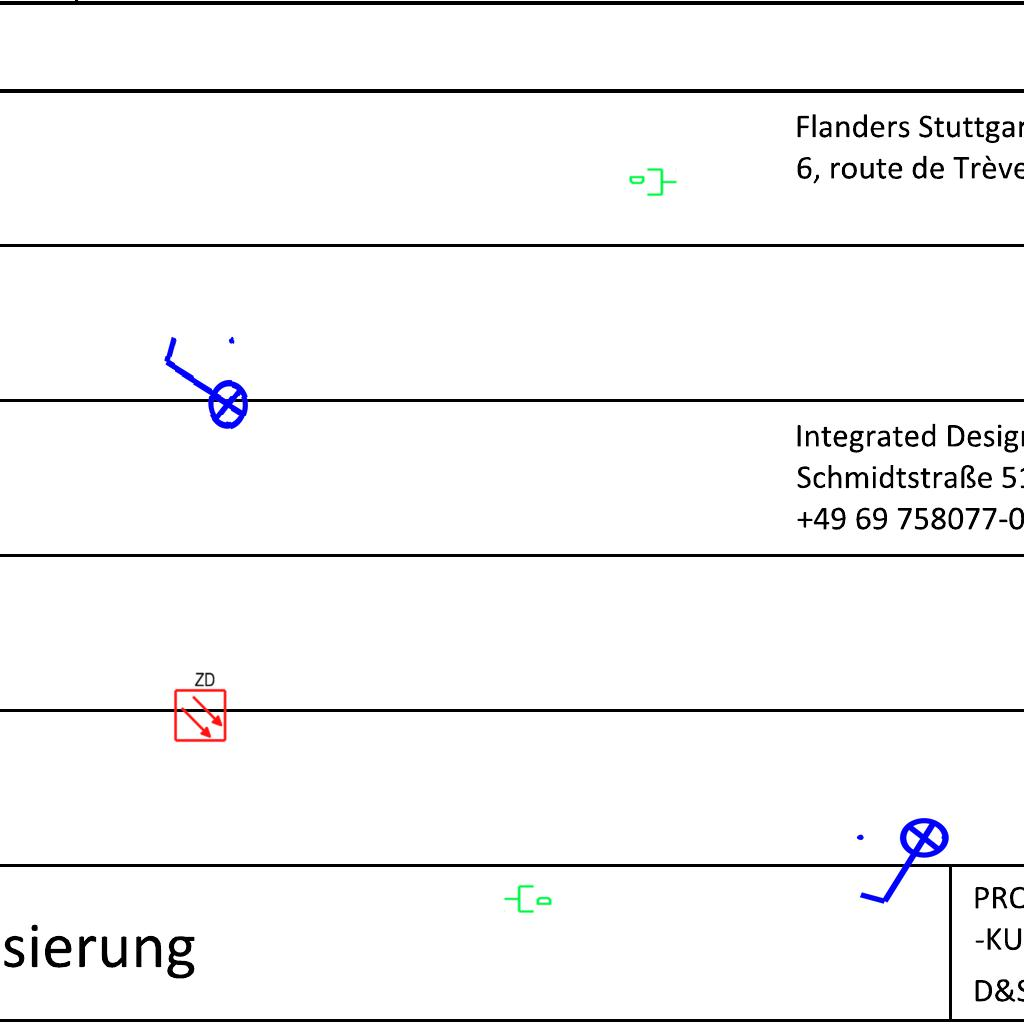Ausschalter_beleuchtet: (152, 327, 254, 445), (851, 816, 963, 912)
Datenanschluss_einfach: (503, 881, 553, 915), (628, 166, 678, 200)
ZD_Melder_in_Zwischendecke_mit_Revisionsoeffnung_mind_40_x_40_cm: (171, 669, 228, 743)
